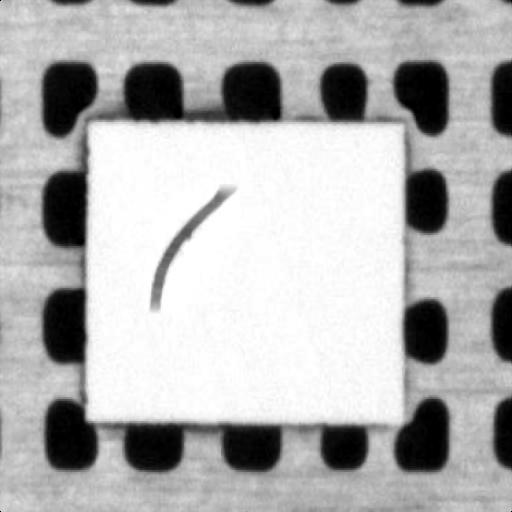DIE_INK: (146, 178, 244, 312)
